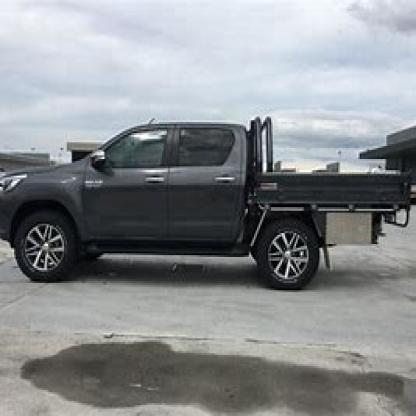light_vehicle: (0, 112, 414, 292)
